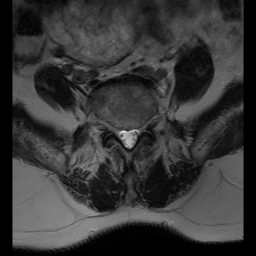CCS_normal: (124, 121, 132, 154)
LFS_stenosis: (139, 114, 147, 140)
LLS_normal: (132, 120, 139, 149)
RFS_normal: (109, 116, 117, 142)
RLS_normal: (117, 122, 124, 148)
